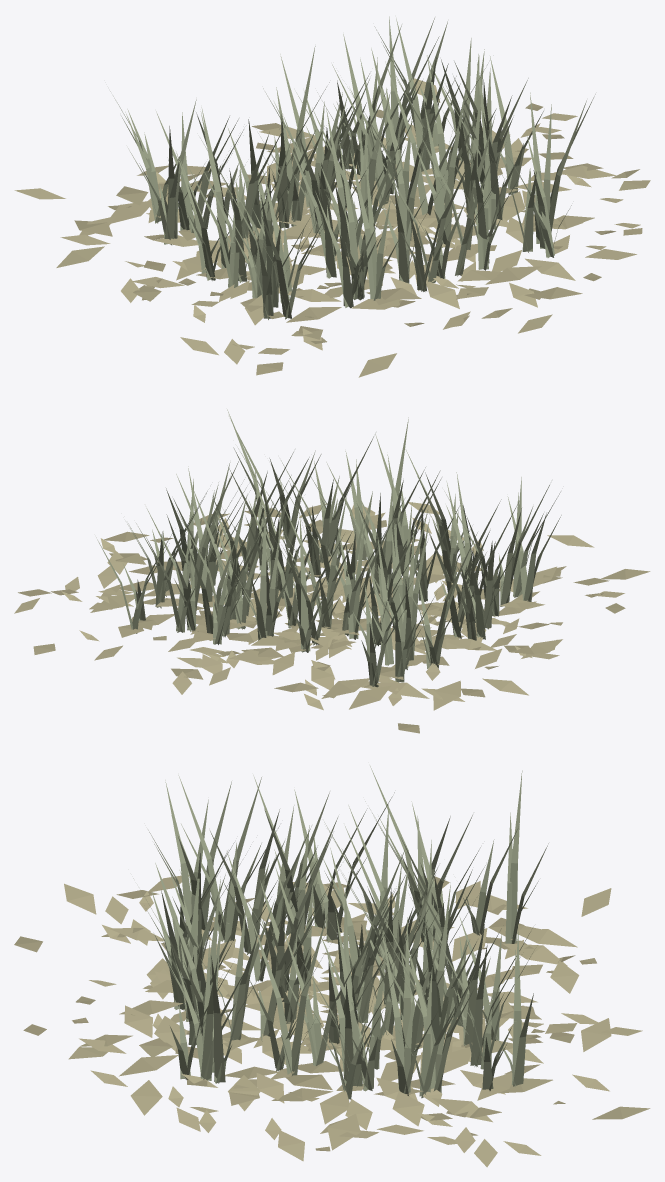
File: AE_C03_IndoorGrowth.fbx
3 views of the same model, one above another, from view 1: azimuth 30°, elevation 25°; view 2: azimuth 150°, elevation 25°; view 3: azimuth 270°, elevation 25° (orthographic). The views are drawn at different scales.
Parts seen in each view (by area): view 1: AE_C03_IndoorGrowth_LOD0; view 2: AE_C03_IndoorGrowth_LOD0; view 3: AE_C03_IndoorGrowth_LOD0.
Part boxes in pixels (x1=…): AE_C03_IndoorGrowth_LOD0: x1=14, y1=16, x2=650, y2=377; AE_C03_IndoorGrowth_LOD0: x1=14, y1=409, x2=650, y2=733; AE_C03_IndoorGrowth_LOD0: x1=14, y1=766, x2=650, y2=1167.
Size of what is drawn, in the model's own units: 218 by 54.95 by 201.
